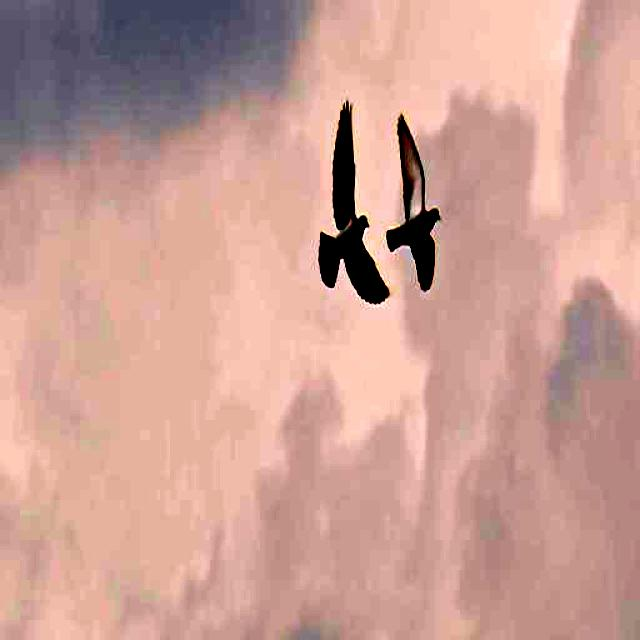airplane: (306, 94, 395, 345), (391, 62, 451, 344)
